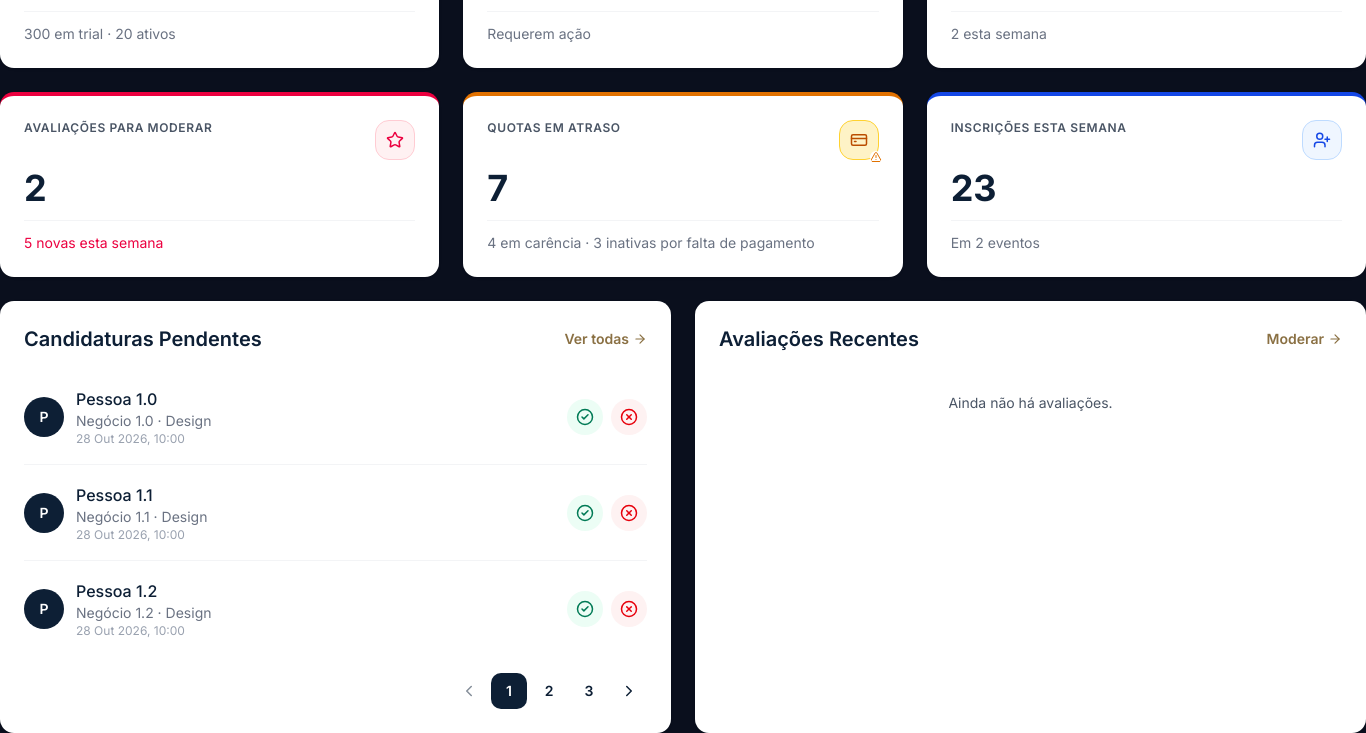
Test case: Painel do admin: página das candidaturas no endereço › mudar de página escreve-a no endereço
The image size is (1366, 733).
(page scrolled)
Expected: the link "Pessoa 1.0" is shown, [76, 388, 157, 408]
What coordinates should you click on to do the following:
click the button named "Página 3"
I would click on:
 (589, 691)
Its box is [571, 673, 607, 709].
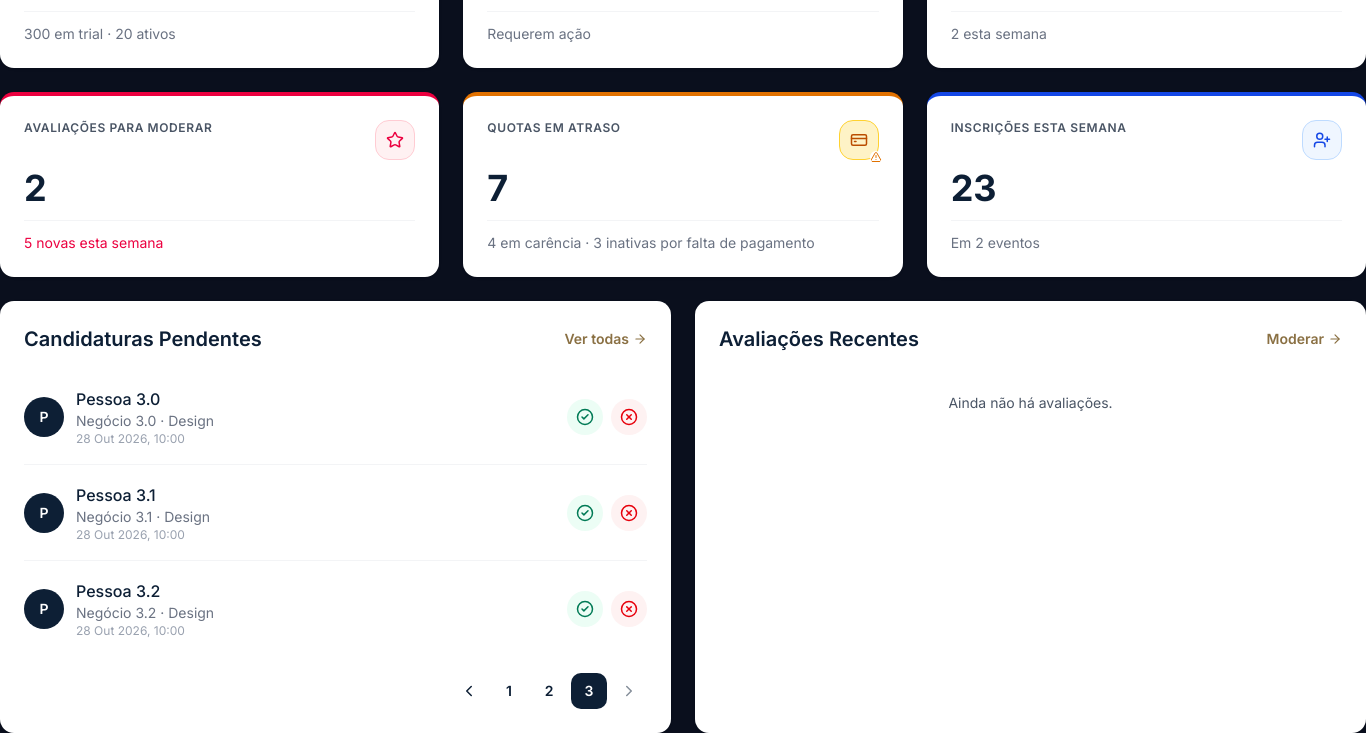
Result: the link "Pessoa 3.0" is shown at [76, 388, 160, 408]
